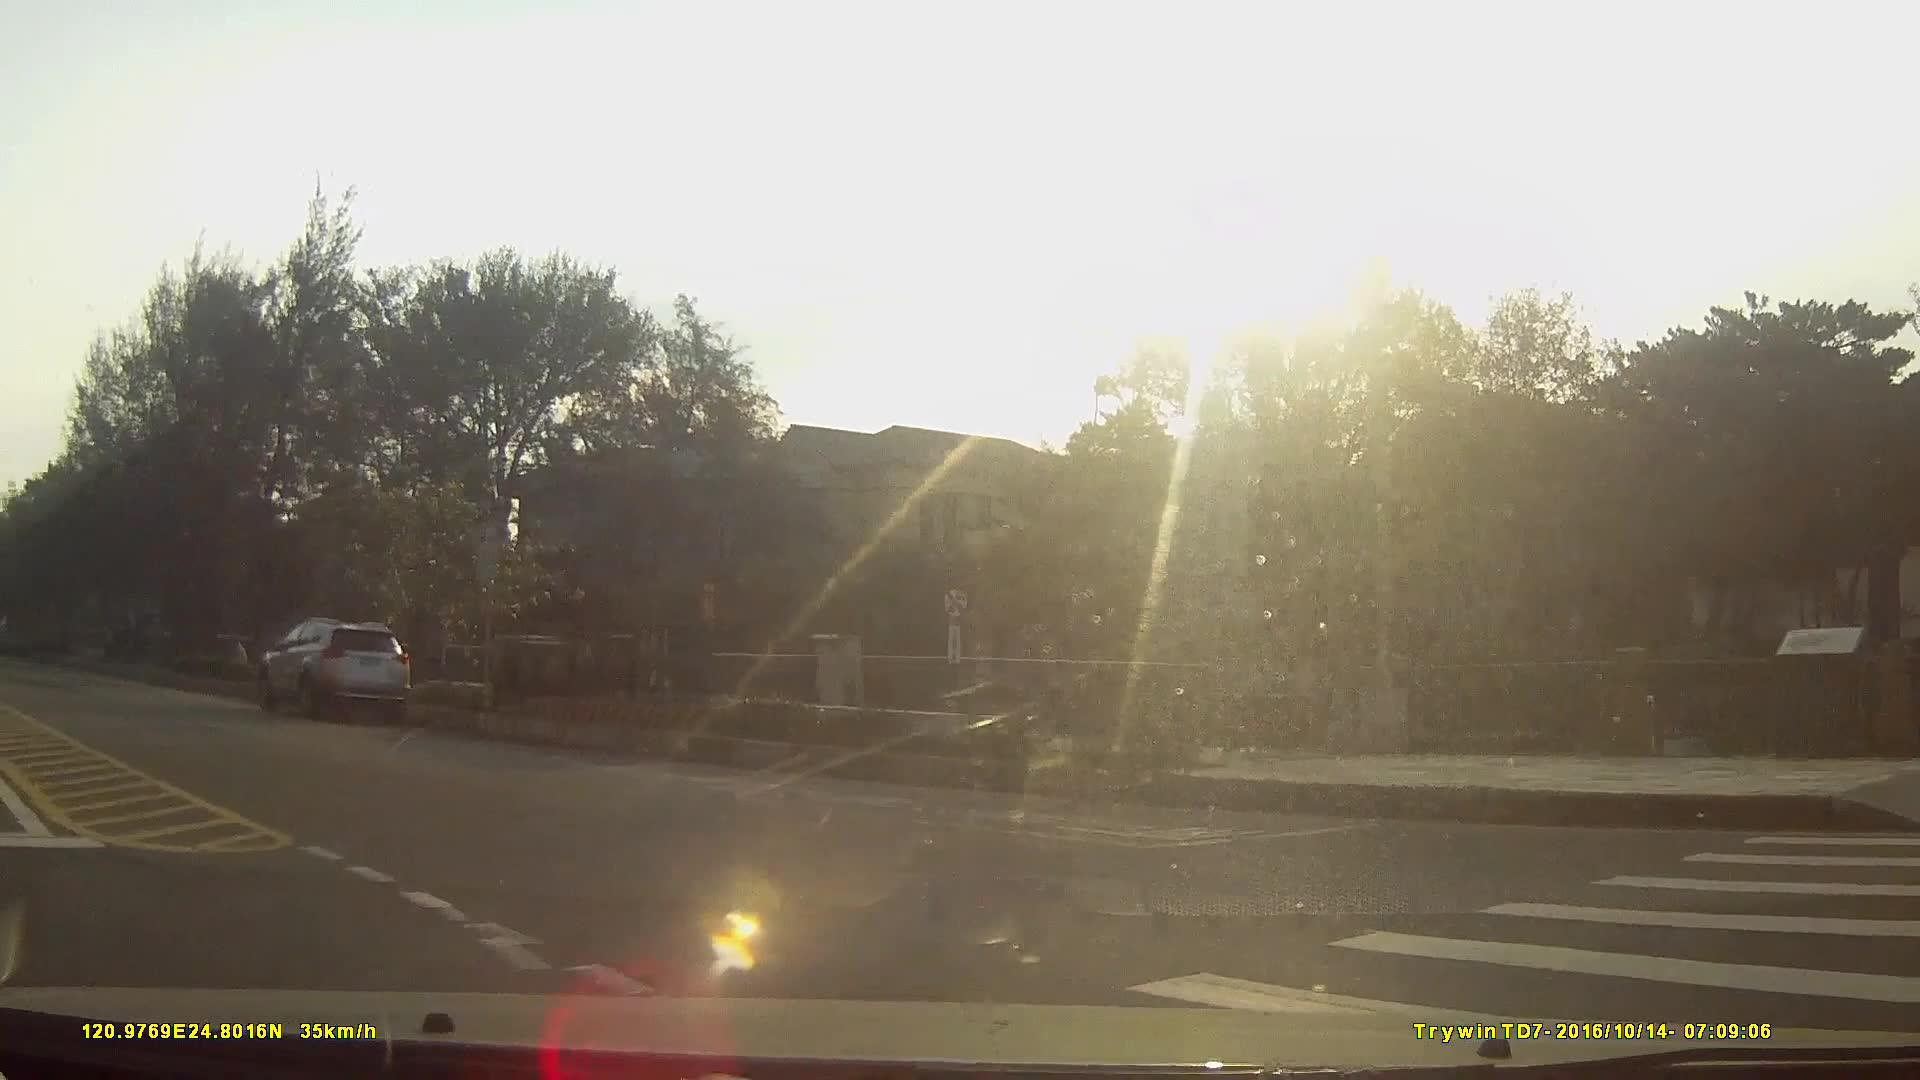vehicle: (257, 617, 409, 728)
